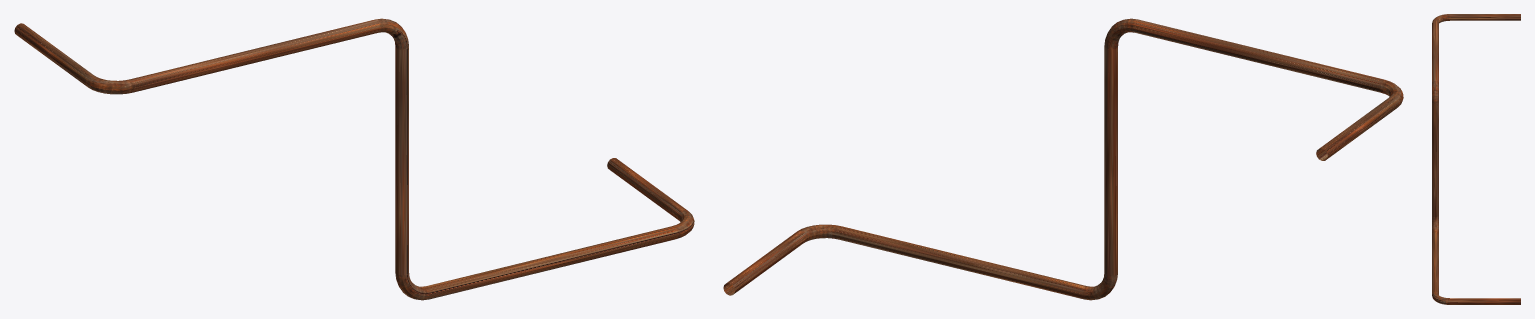
Rendered from pipe.glb.
3 renders of one model, left to right at view 1: azimuth 30°, elevation 25°; view 2: azimuth 150°, elevation 25°; view 3: azimuth 270°, elevation 25°, orthographic. The views are drawn at different scales.
Visible parts, largest first — view 1: Cylinder.001; view 2: Cylinder.001; view 3: Cylinder.001.
Boxes of the visible parts, box(x1,y1,x2,y2) form: Cylinder.001: box(14, 18, 694, 300); Cylinder.001: box(723, 18, 1403, 300); Cylinder.001: box(1432, 14, 1520, 304).
Bounding box in the file's own units: 2.04 × 0.94 × 0.52.
1 material, 1 textured.
